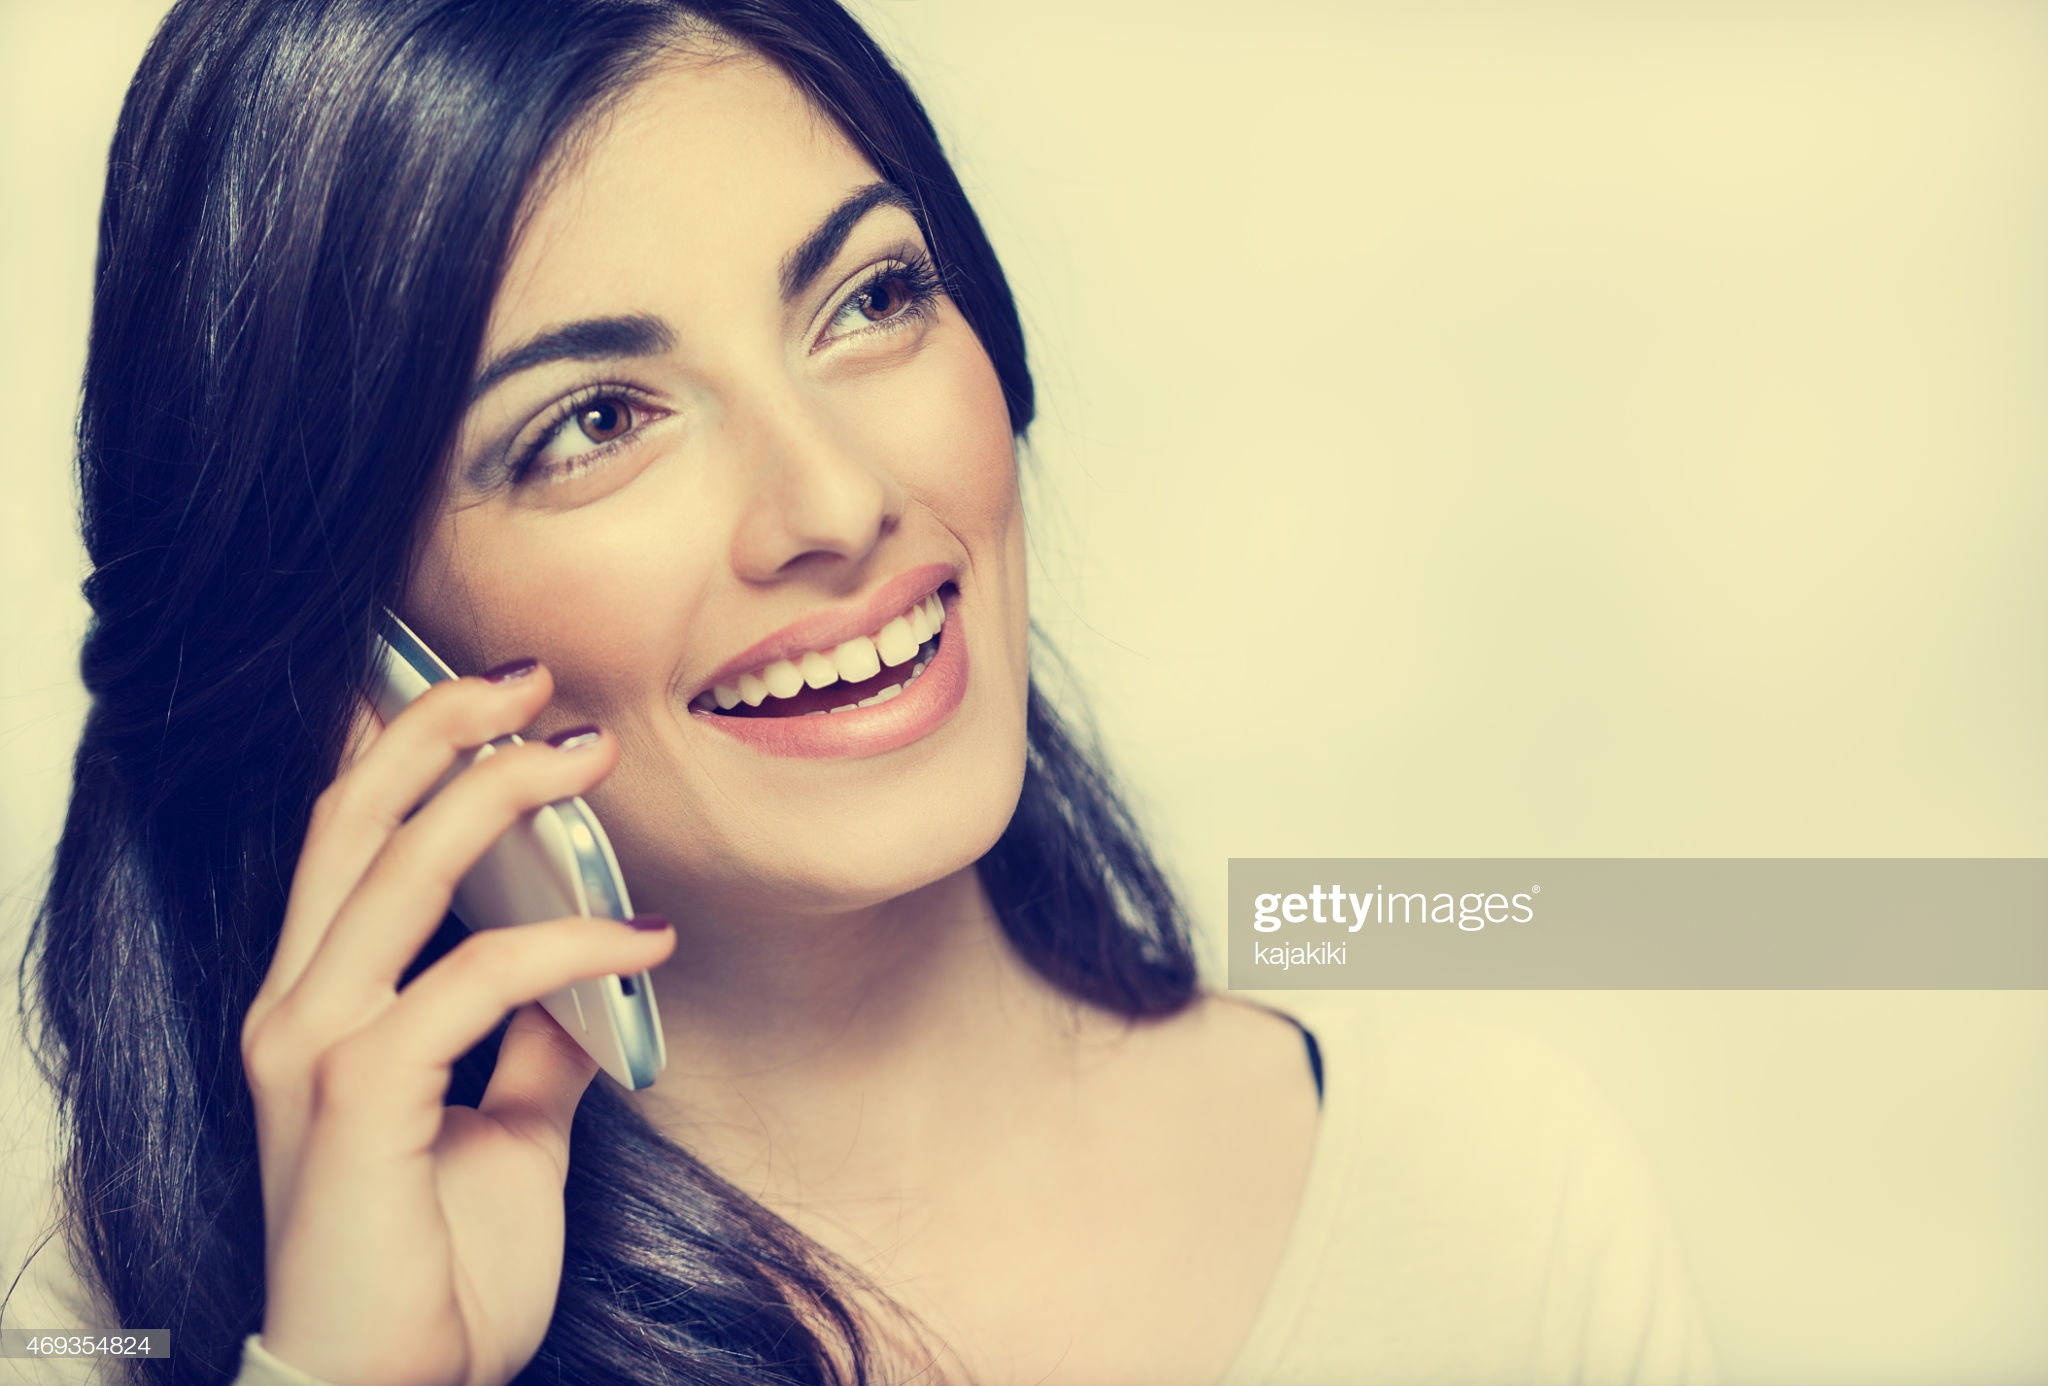phone: (285, 616, 628, 1179)
talk: (190, 169, 1049, 1309)
